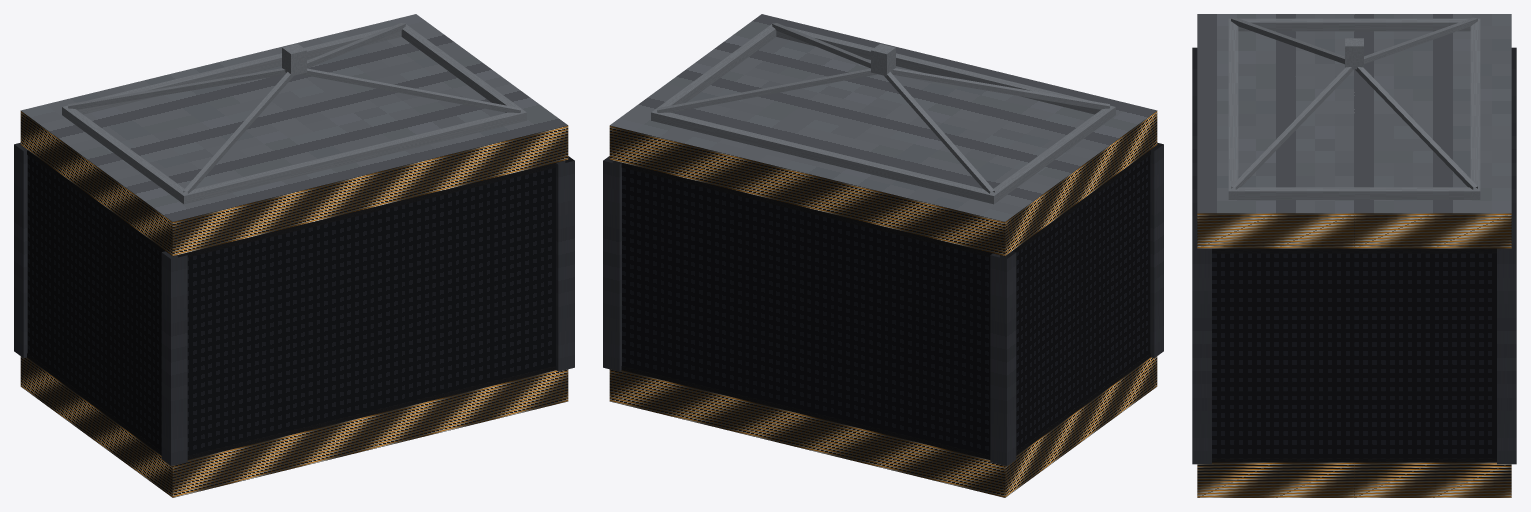
Rendered from centre_hung_scoreboard_small.obj.
3 renders of one model, left to right at view 1: azimuth 30°, elevation 25°; view 2: azimuth 150°, elevation 25°; view 3: azimuth 270°, elevation 25°, orthographic. The views are drawn at different scales.
Visible parts, largest first — view 1: centre_hung_scoreboard_small; view 2: centre_hung_scoreboard_small; view 3: centre_hung_scoreboard_small.
Boxes of the visible parts, bbox=[...] form: centre_hung_scoreboard_small: bbox=[14, 14, 574, 497]; centre_hung_scoreboard_small: bbox=[603, 14, 1163, 497]; centre_hung_scoreboard_small: bbox=[1192, 14, 1516, 497].
Bounding box in the file's own units: 6.12 × 5.01 × 4.12.
